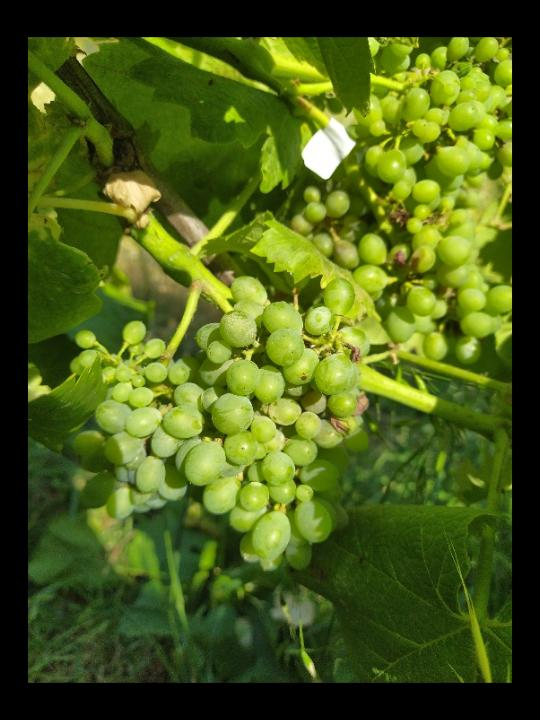grape: (62, 271, 380, 578)
